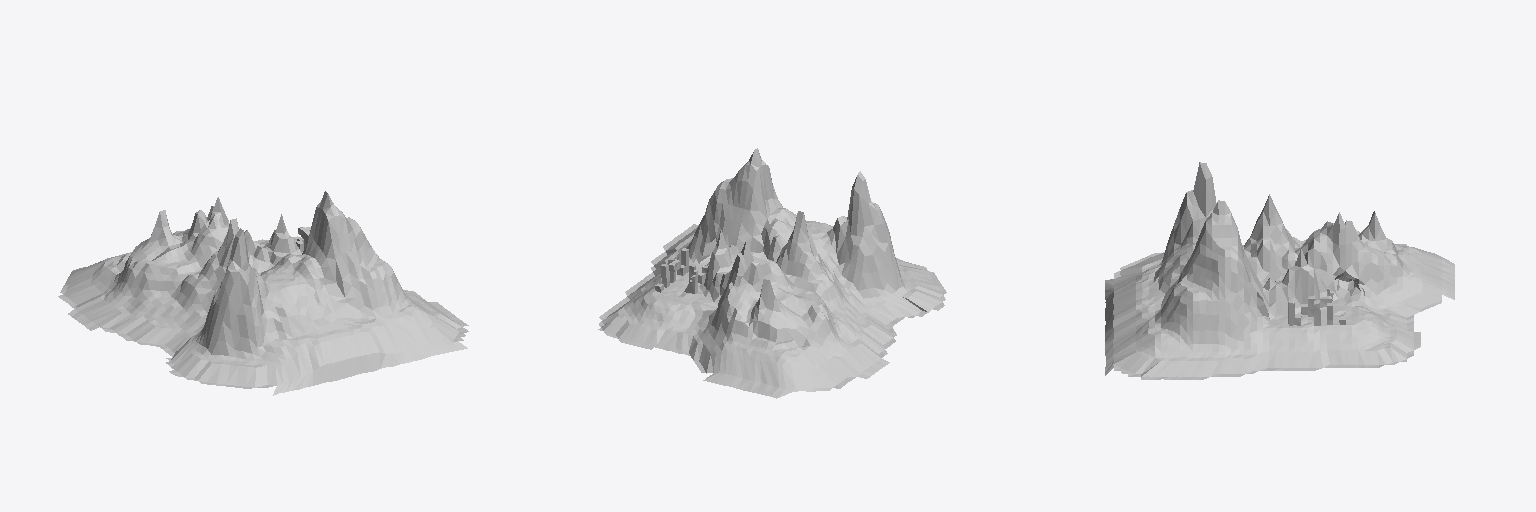
Rendered from GlitchIsland.obj.
The picture shows the model from 3 angles: view 1: azimuth 30°, elevation 25°; view 2: azimuth 150°, elevation 25°; view 3: azimuth 270°, elevation 25°; orthographic projection.
Parts seen in each view (by area): view 1: Plane; view 2: Plane; view 3: Plane.
Boxes of the visible parts, <box> form: Plane: <box>58,191,468,395</box>; Plane: <box>598,148,946,398</box>; Plane: <box>1105,162,1454,379</box>.
Size of the model in its own units: 42.58 by 21.42 by 45.03.